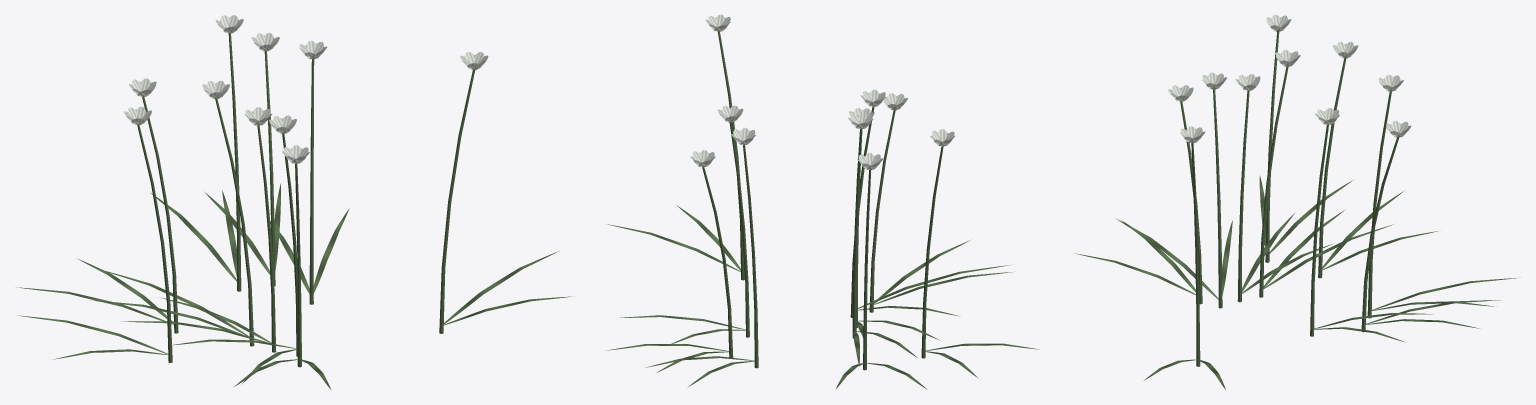
File: cotton_grass_v02.glb
The picture shows the model from 3 angles, left to right: view 1: azimuth 30°, elevation 25°; view 2: azimuth 150°, elevation 25°; view 3: azimuth 270°, elevation 25°; orthographic projection. The views are drawn at different scales.
Visible parts, largest first — view 1: cotton_grass_v02; view 2: cotton_grass_v02; view 3: cotton_grass_v02.
Part boxes in pixels (x1,y1,x2,y2): cotton_grass_v02: (17, 15, 573, 390); cotton_grass_v02: (604, 14, 1039, 389); cotton_grass_v02: (1074, 14, 1519, 389).
Bounding box in the file's own units: 0.7328 × 0.386 × 0.6357.
3 materials, 3 textured.
